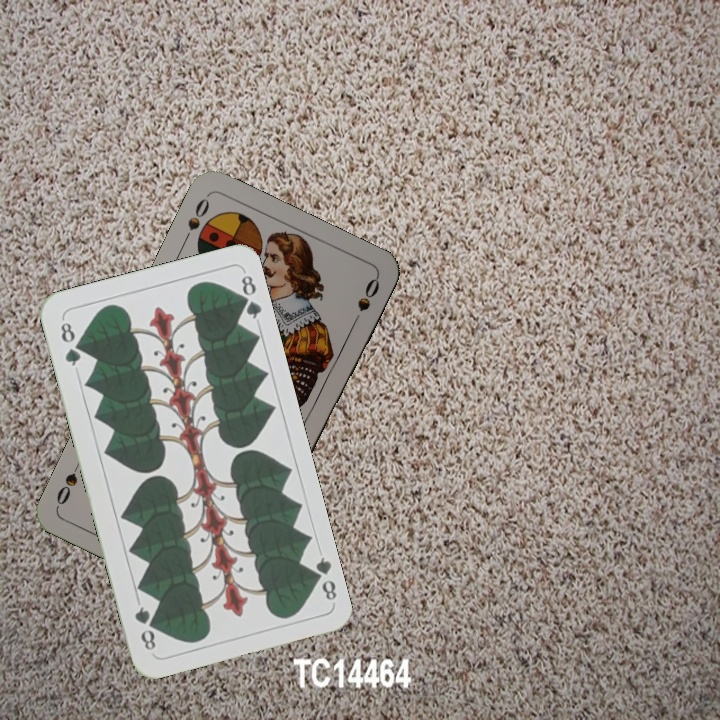G8: (305, 553, 340, 603), (56, 315, 83, 369)
SO: (178, 193, 212, 247)
